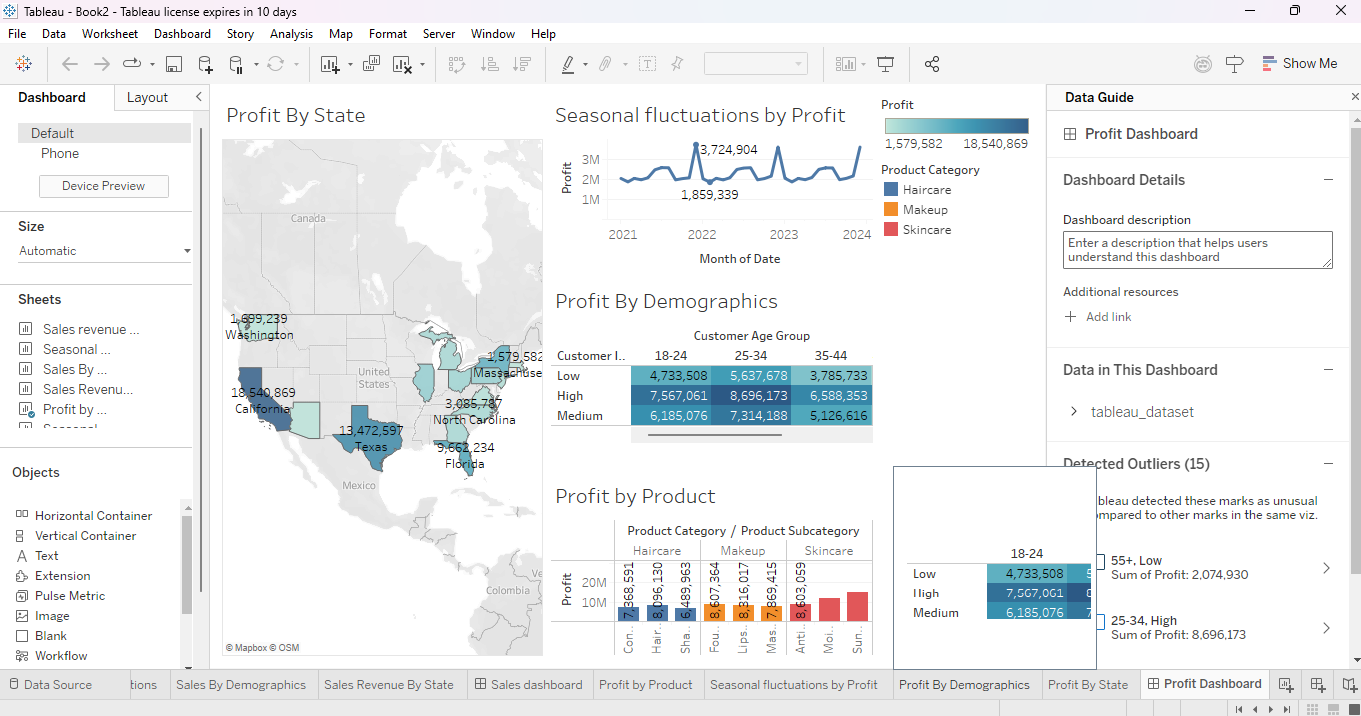

Layout of this report page (visuals, bound fields, positions):
{"tool":"tableau","page":{"name":"Profit Dashboard","canvas":[1000,1000],"units":"permille","ordinal":0},"visuals":[{"type":"worksheet","title":"Profit By State","mark":"Automatic","box":[6.7,14.7,426.4,970.6]},{"type":"worksheet","title":"Seasonal fluctuations by Profit","mark":"Automatic","rows":["Profit"],"cols":["Date"],"box":[433.1,14.7,426.4,318]},{"type":"legend","title":"Profit By State","param":"[federated.0wdq8iu17xqobh1b6g7o61b6hv7f].[sum:Profit:qk]","box":[859.4,14.7,133.9,119.5]},{"type":"legend","title":"Profit by Product","param":"[federated.0wdq8iu17xqobh1b6g7o61b6hv7f].[none:ProductCategory:nk]","box":[859.4,134.2,133.9,158.1]},{"type":"worksheet","title":"Profit By Demographics","mark":"Square","rows":["CustomerIncomeLevel"],"cols":["CustomerAgeGroup"],"box":[433.1,332.7,426.4,332.7]},{"type":"worksheet","title":"Profit by Product","mark":"Automatic","rows":["Profit"],"cols":["ProductCategory","ProductSubcategory"],"box":[433.1,665.4,426.4,319.9]}]}

Visuals, with their boxes on the dashboard's canvas, which has no fixed pixel size, in thousandths of its width and height (x1, y1, x2, y2). These are canvas units, not pixel positions in the 1361x716 screenshot, which may show the page scaled, cropped or inside an application window:
"Profit By State" worksheet: detection(7, 15, 433, 985)
"Seasonal fluctuations by Profit" worksheet: detection(433, 15, 860, 333)
"Profit By State" legend: detection(859, 15, 993, 134)
"Profit by Product" legend: detection(859, 134, 993, 292)
"Profit By Demographics" worksheet (Square marks): detection(433, 333, 860, 665)
"Profit by Product" worksheet: detection(433, 665, 860, 985)
